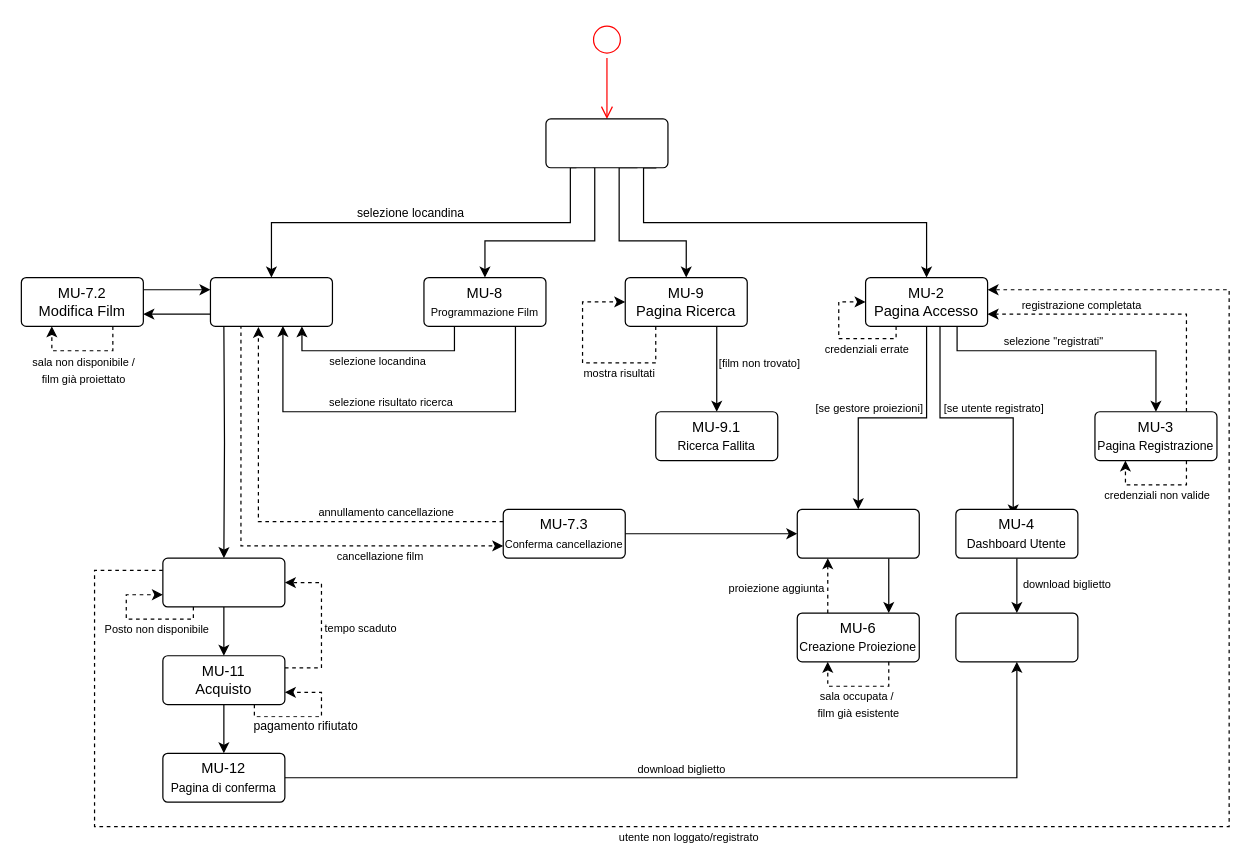
Some shapes in this 1260 by 865 pixel diagram are drawn without their labels. Each missing label, with the box of its shape:
MU-1 Homepage: (545, 118, 668, 168)
MU-10 Selezione posti: (162, 557, 285, 607)
MU-13 Biglietto: (955, 612, 1078, 662)
MU-5 Dashboard Gestore: (796, 508, 919, 558)
MU-7 Descrizione Film: (209, 276, 332, 326)
